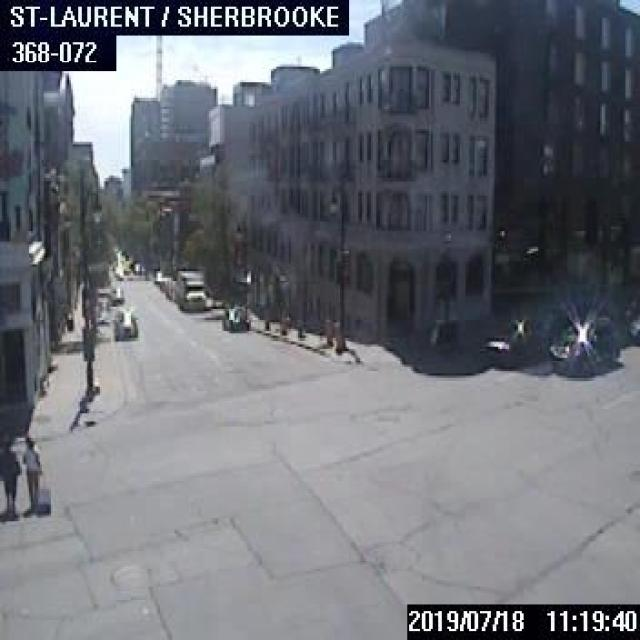pedestrian: (20, 434, 50, 514), (0, 436, 20, 518)
vehicle: (548, 315, 619, 375), (476, 317, 544, 365), (173, 268, 206, 309), (110, 307, 136, 338), (220, 304, 248, 329), (94, 286, 123, 303)
